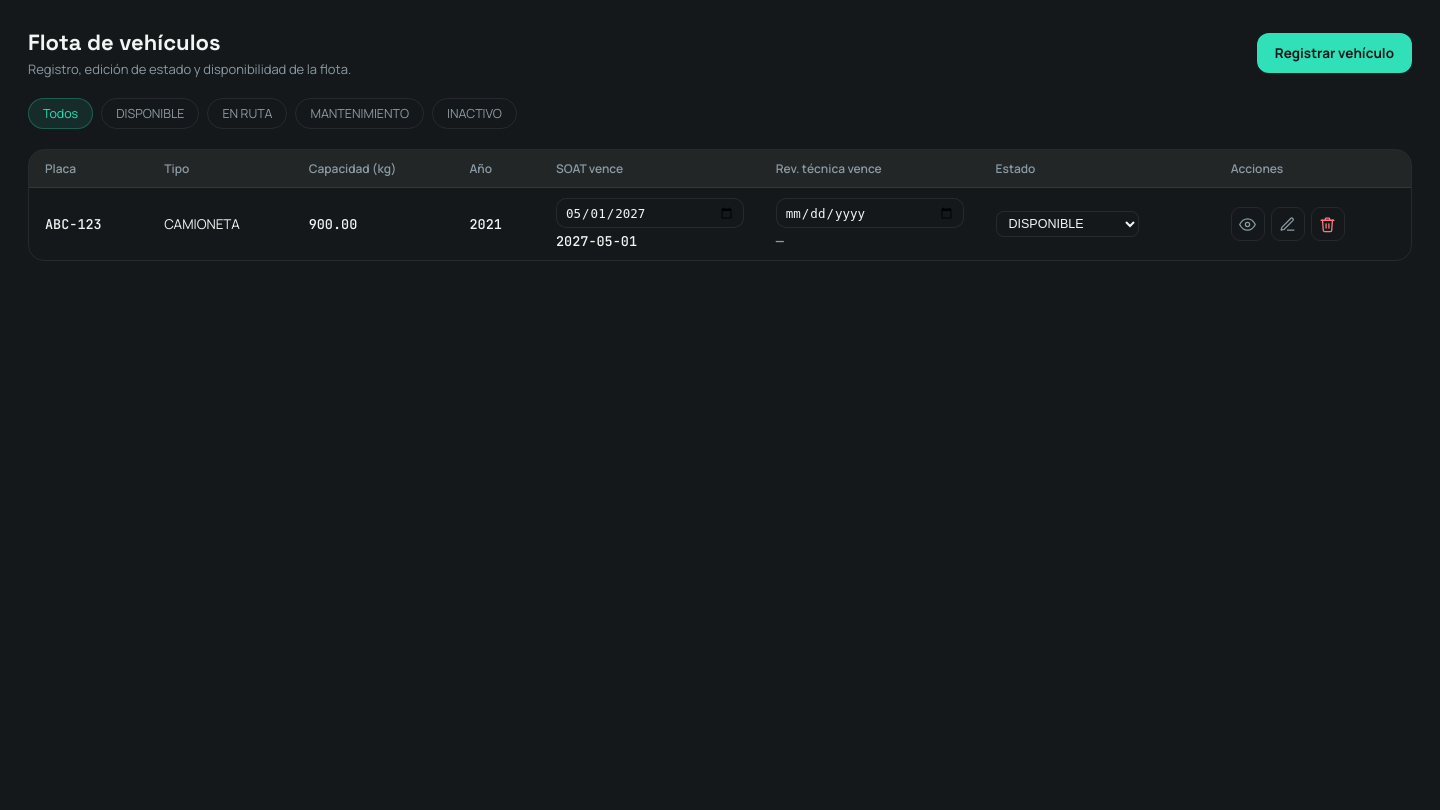
Test: Flota: detalle, edición y eliminación › el detalle muestra capacidad, consumo y documentos
Step 1. Click the button named "Ver detalle de ABC-123" → (1248, 224), box [1231,207,1265,241]
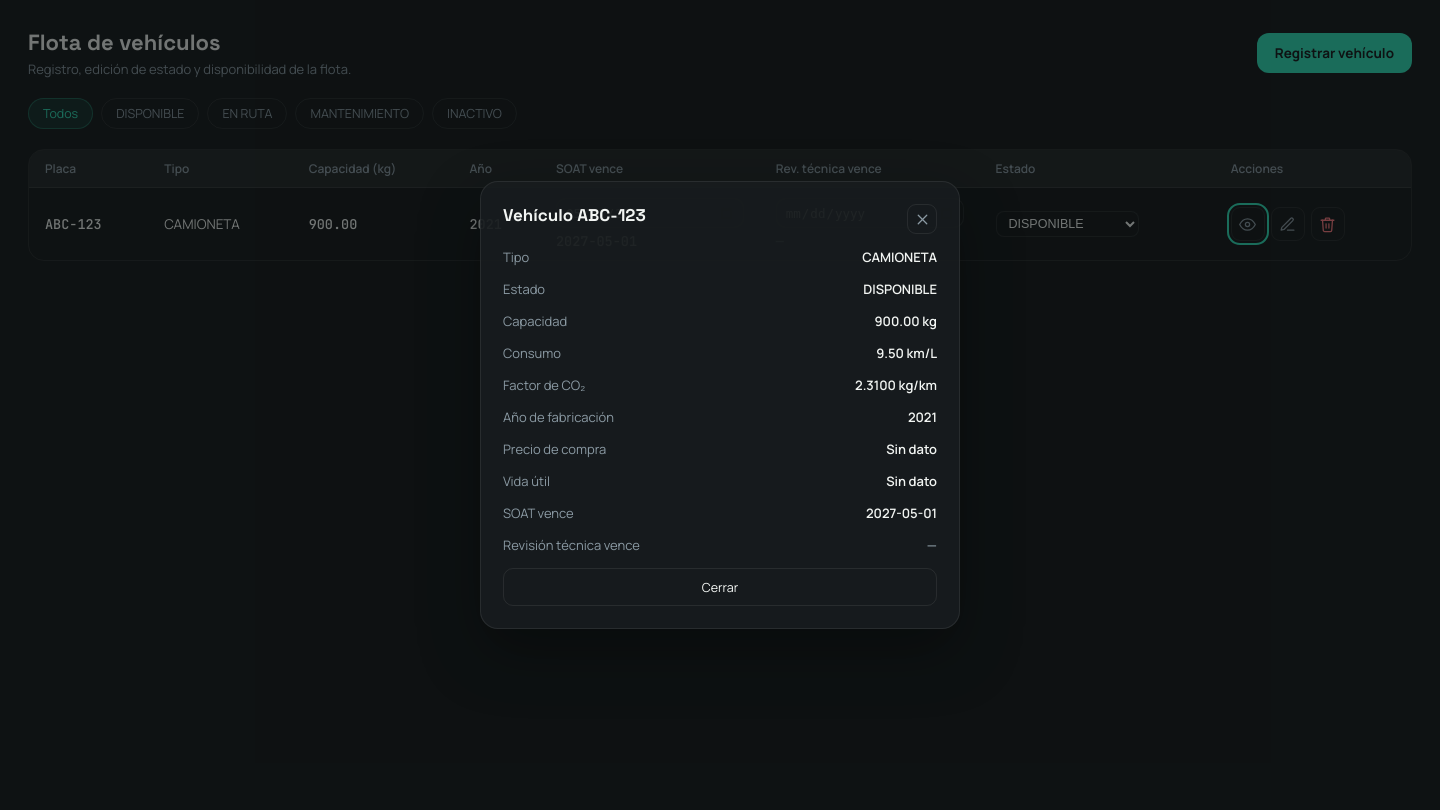
Check: the text "900.00 kg" is shown, box [874,312,937,330]
Check: the text "9.50 km/L" is shown, box [876,344,937,362]
